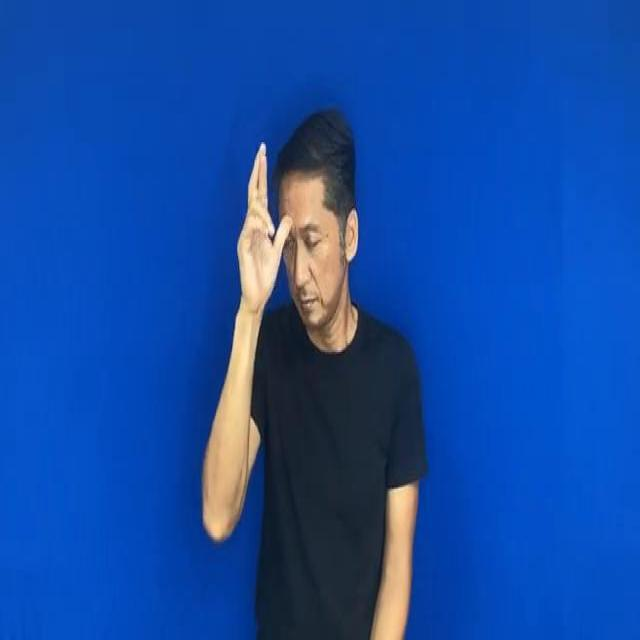chicken: (218, 139, 294, 313)
